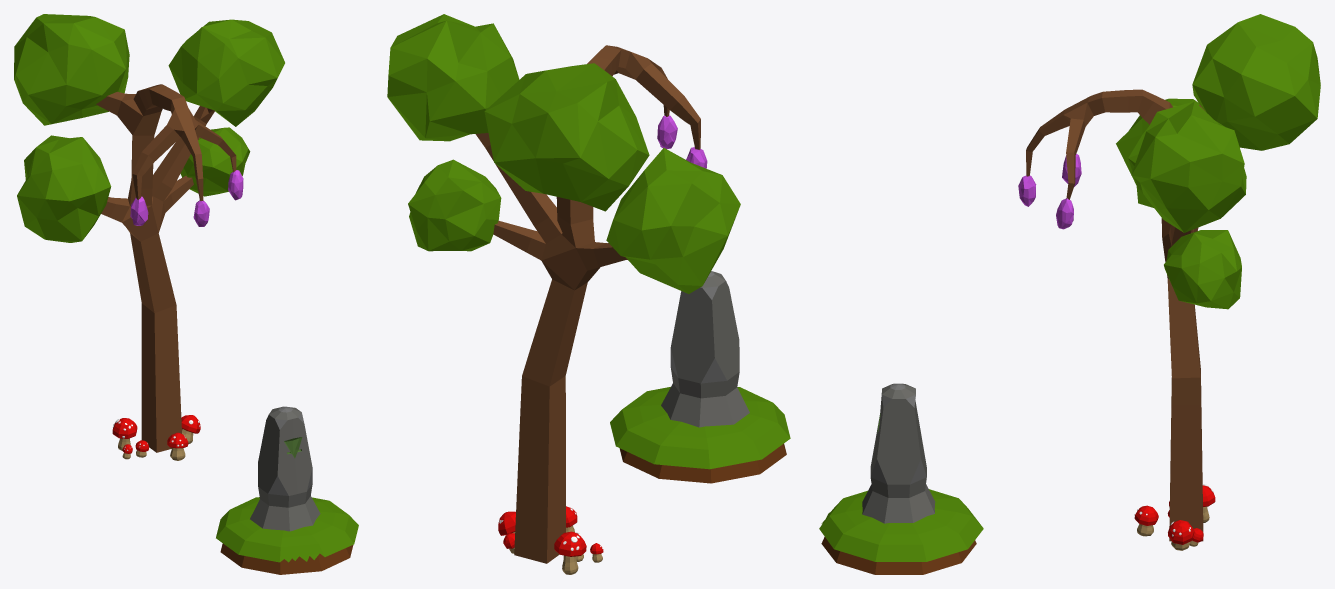
Rendered from gardenSTONE.fbx.
3 renders of one model, left to right at view 1: azimuth 30°, elevation 25°; view 2: azimuth 150°, elevation 25°; view 3: azimuth 270°, elevation 25°, orthographic. The views are drawn at different scales.
Parts seen in each view (by area): view 1: Vert, branch002, branch004, branch003, Cube, mechChujWieJakPoAng, branch001, mechChujWieJakPoAng_bottom; view 2: Vert, branch002, branch003, branch004, Cube, mechChujWieJakPoAng, branch001, mechChujWieJakPoAng_bottom, mushroomsHEAD.004, crystal.001; view 3: branch002, Vert, branch004, mechChujWieJakPoAng, Cube, branch001, mechChujWieJakPoAng_bottom, branch003.
Boxes of the visible parts, x1,y1,x2,y2 form: Vert: [96, 84, 236, 452]; branch002: [14, 14, 129, 125]; branch004: [168, 19, 284, 126]; branch003: [17, 135, 111, 242]; Cube: [250, 406, 320, 531]; mechChujWieJakPoAng: [216, 497, 358, 562]; branch001: [180, 127, 250, 196]; mechChujWieJakPoAng_bottom: [220, 543, 353, 574]; Vert: [475, 45, 700, 563]; branch002: [484, 63, 649, 211]; branch003: [606, 148, 740, 293]; branch004: [387, 14, 519, 141]; Cube: [661, 271, 749, 427]; mechChujWieJakPoAng: [610, 387, 790, 469]; branch001: [408, 159, 501, 251]; mechChujWieJakPoAng_bottom: [619, 443, 786, 483]; mushroomsHEAD.004: [554, 531, 586, 556]; crystal.001: [657, 115, 677, 148]; branch002: [1192, 14, 1320, 150]; Vert: [1026, 89, 1204, 541]; branch004: [1131, 101, 1246, 232]; mechChujWieJakPoAng: [819, 489, 983, 561]; Cube: [862, 383, 935, 523]; branch001: [1164, 230, 1241, 309]; mechChujWieJakPoAng_bottom: [821, 537, 976, 574]; branch003: [1116, 98, 1199, 207].
Size of the model in its own units: 487 by 766 by 716.
